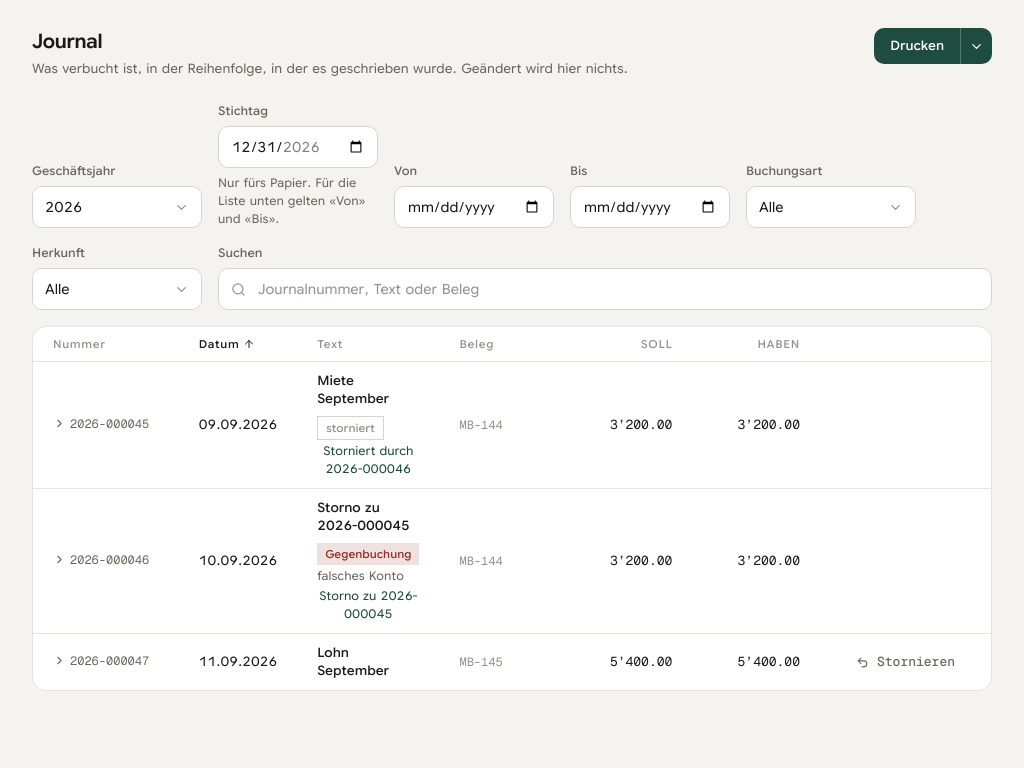
Test: JournalPage › opensARowToItsLinesTest
The image size is (1024, 768).
Check: the text "Raumaufwand" is not shown
What coordinates should you click on to do the following:
click the button "2026-000045"
I would click on:
 (101, 424)
Its box is left=53, top=415, right=149, bottom=433.
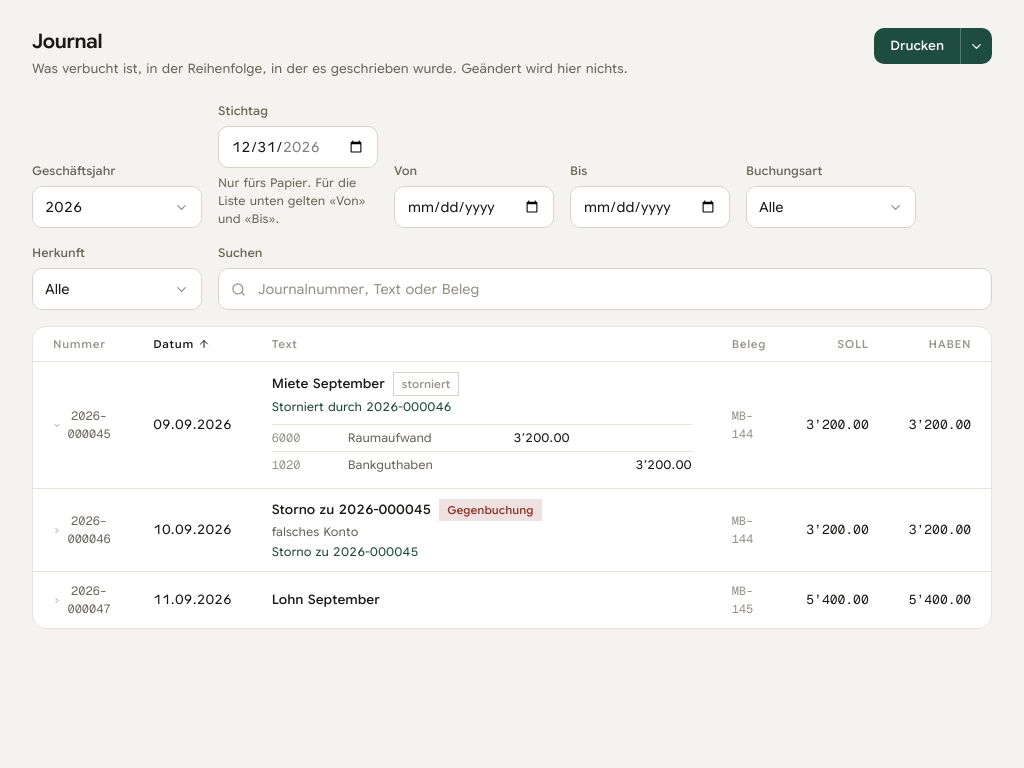
Check: the text "Raumaufwand" is shown, box left=348, top=430, right=432, bottom=445
Check: the text "Bankguthaben" is shown, box left=348, top=456, right=448, bottom=474
What coordinates should you click on to do the following:
click the button "2026-000045"
I would click on:
 (83, 425)
Its box is left=53, top=407, right=113, bottom=443.
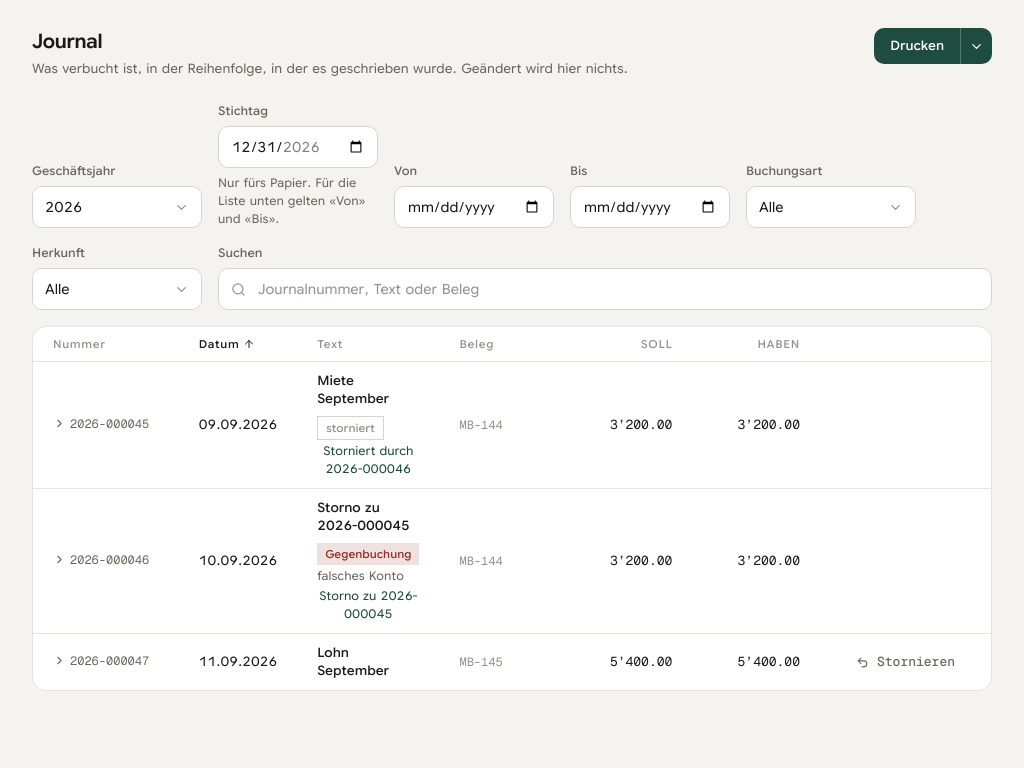
Check: the text "Raumaufwand" is gone
